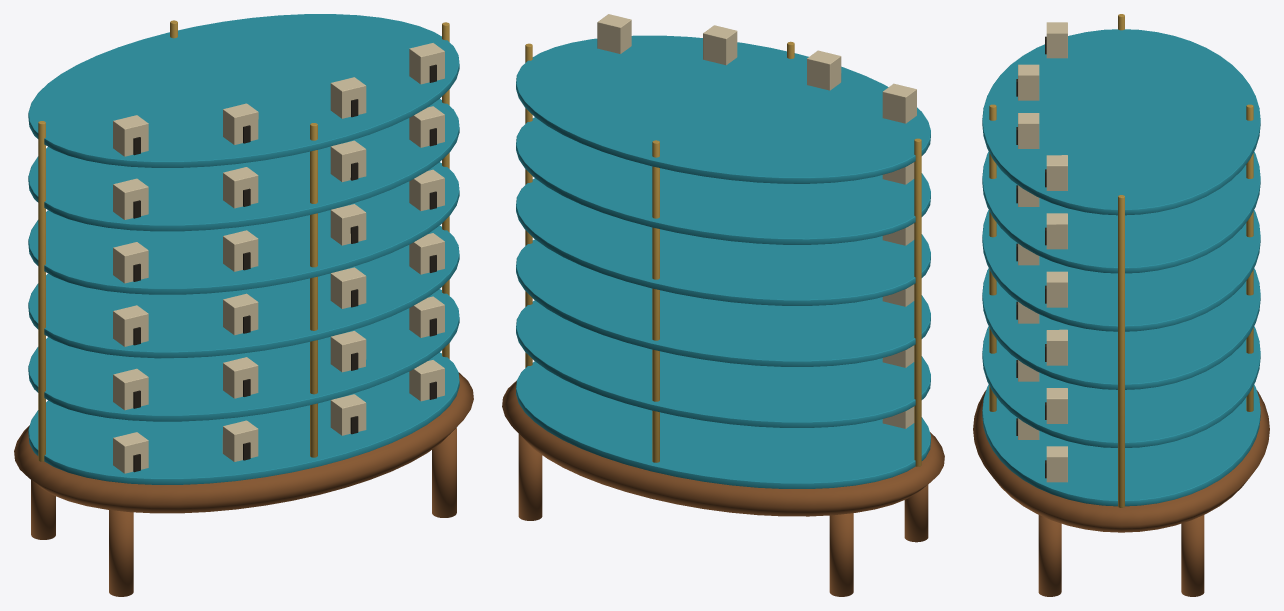
The picture shows the model from 3 angles, left to right: view 1: azimuth 30°, elevation 25°; view 2: azimuth 150°, elevation 25°; view 3: azimuth 270°, elevation 25°; orthographic projection. The views are drawn at different scales.
Parts seen in each view (by area): view 1: TI053 / separate oval board.005, TI053 / separate oval board.002, TI053 / separate oval board.004, TI053 / separate oval board, TI053 / separate oval board.001, TI053 / separate oval board.003, TI053 / oval game table base, TI053 / board support column.002, TI053 / board support column.003, TI053 / turned table leg, TI053 / turned table leg.002, TI053 / turned table leg.001 (+25 smaller); view 2: TI053 / separate oval board.005, TI053 / separate oval board.003, TI053 / separate oval board.004, TI053 / separate oval board, TI053 / separate oval board.001, TI053 / separate oval board.002, TI053 / oval game table base, TI053 / board support column.002, TI053 / board support column.001, TI053 / turned table leg.001, TI053 / turned table leg.003, TI053 / turned table leg (+5 smaller); view 3: TI053 / separate oval board.005, TI053 / separate oval board.004, TI053 / separate oval board.002, TI053 / separate oval board, TI053 / separate oval board.003, TI053 / separate oval board.001, TI053 / oval game table base, TI053 / board support column, TI053 / turned table leg.002, TI053 / turned table leg.003, TI053 / board support column.001, TI053 / board support column.003 (+9 smaller).
Part boxes in pixels (x1=…): TI053 / separate oval board.005: x1=28, y1=14, x2=459, y2=167; TI053 / separate oval board.002: x1=28, y1=225, x2=459, y2=358; TI053 / separate oval board.004: x1=28, y1=99, x2=459, y2=231; TI053 / separate oval board: x1=28, y1=352, x2=459, y2=484; TI053 / separate oval board.001: x1=28, y1=289, x2=459, y2=421; TI053 / separate oval board.003: x1=28, y1=162, x2=459, y2=294; TI053 / oval game table base: x1=14, y1=372, x2=473, y2=513; TI053 / board support column.002: x1=38, y1=121, x2=45, y2=461; TI053 / board support column.003: x1=310, y1=123, x2=317, y2=457; TI053 / turned table leg: x1=109, y1=510, x2=133, y2=596; TI053 / turned table leg.002: x1=432, y1=428, x2=456, y2=517; TI053 / turned table leg.001: x1=31, y1=480, x2=55, y2=539; TI053 / separate oval board.005: x1=516, y1=35, x2=930, y2=183; TI053 / separate oval board.003: x1=516, y1=178, x2=930, y2=305; TI053 / separate oval board.004: x1=516, y1=117, x2=930, y2=244; TI053 / separate oval board: x1=516, y1=361, x2=930, y2=488; TI053 / separate oval board.001: x1=516, y1=300, x2=930, y2=427; TI053 / separate oval board.002: x1=516, y1=239, x2=930, y2=366; TI053 / oval game table base: x1=502, y1=381, x2=944, y2=516; TI053 / board support column.002: x1=914, y1=138, x2=921, y2=466; TI053 / board support column.001: x1=652, y1=140, x2=659, y2=462; TI053 / turned table leg.001: x1=829, y1=513, x2=853, y2=596; TI053 / turned table leg.003: x1=518, y1=434, x2=542, y2=520; TI053 / turned table leg: x1=904, y1=484, x2=928, y2=542; TI053 / separate oval board.005: x1=982, y1=29, x2=1260, y2=215; TI053 / separate oval board.004: x1=982, y1=151, x2=1260, y2=273; TI053 / separate oval board.002: x1=982, y1=268, x2=1260, y2=389; TI053 / separate oval board: x1=982, y1=384, x2=1260, y2=506; TI053 / separate oval board.003: x1=982, y1=210, x2=1260, y2=331; TI053 / separate oval board.001: x1=982, y1=326, x2=1260, y2=447; TI053 / oval game table base: x1=973, y1=390, x2=1269, y2=532; TI053 / board support column: x1=1118, y1=195, x2=1124, y2=507; TI053 / turned table leg.002: x1=1038, y1=515, x2=1061, y2=596; TI053 / turned table leg.003: x1=1181, y1=515, x2=1204, y2=596; TI053 / board support column.001: x1=1246, y1=104, x2=1253, y2=411; TI053 / board support column.003: x1=989, y1=104, x2=996, y2=411.
Size of the model in its own units: 3.2 by 3.29 by 2.08.
